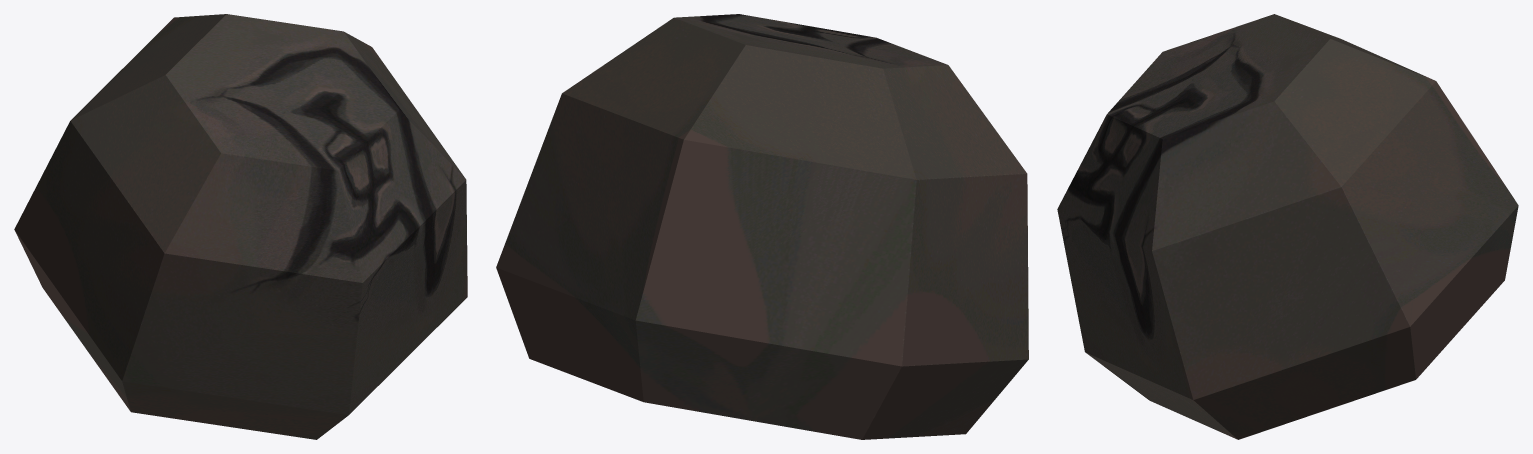
The model's file is runestone 4.fbx.
3 renders of one model, left to right at view 1: azimuth 30°, elevation 25°; view 2: azimuth 150°, elevation 25°; view 3: azimuth 270°, elevation 25°, orthographic. The views are drawn at different scales.
Parts seen in each view (by area): view 1: node_id5; view 2: node_id5; view 3: node_id5.
Boxes of the visible parts, left/top/right/bottom form: node_id5: left=14, top=14, right=467, bottom=439; node_id5: left=496, top=14, right=1028, bottom=439; node_id5: left=1057, top=14, right=1518, bottom=439.
Size of the model in its own units: 0.3833 by 0.3817 by 0.4411.
1 material, 1 textured.
